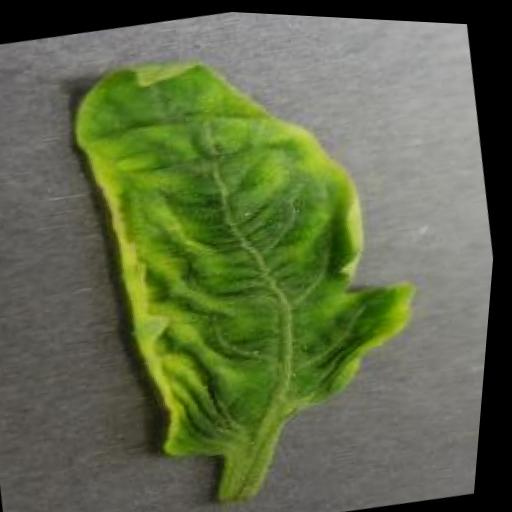Yellow Leaf Curl Virus: (43, 5, 463, 480)
